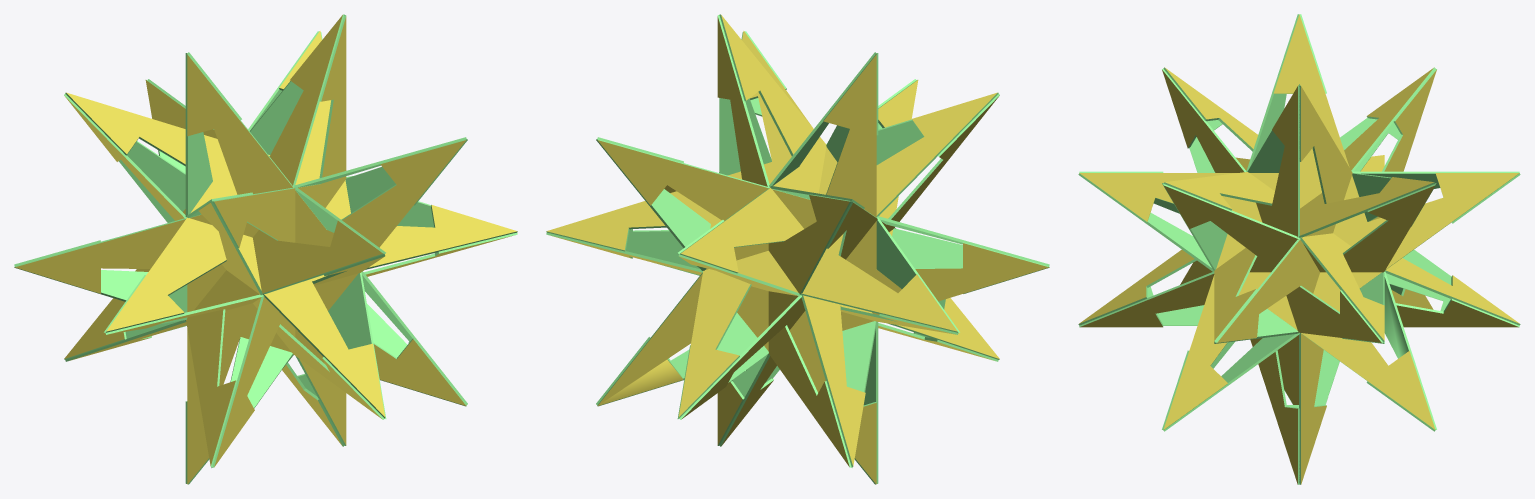
The model's file is GreatStellatedDodecahedronS.glb.
3 renders of one model, left to right at view 1: azimuth 30°, elevation 25°; view 2: azimuth 150°, elevation 25°; view 3: azimuth 270°, elevation 25°, orthographic. The views are drawn at different scales.
Visible parts, largest first — view 1: root; view 2: root; view 3: root.
Boxes of the visible parts, bbox=[...] form: root: bbox=[14, 14, 517, 484]; root: bbox=[546, 14, 1049, 484]; root: bbox=[1078, 14, 1520, 484].
Bounding box in the file's own units: 8.52 × 8.52 × 8.52.
